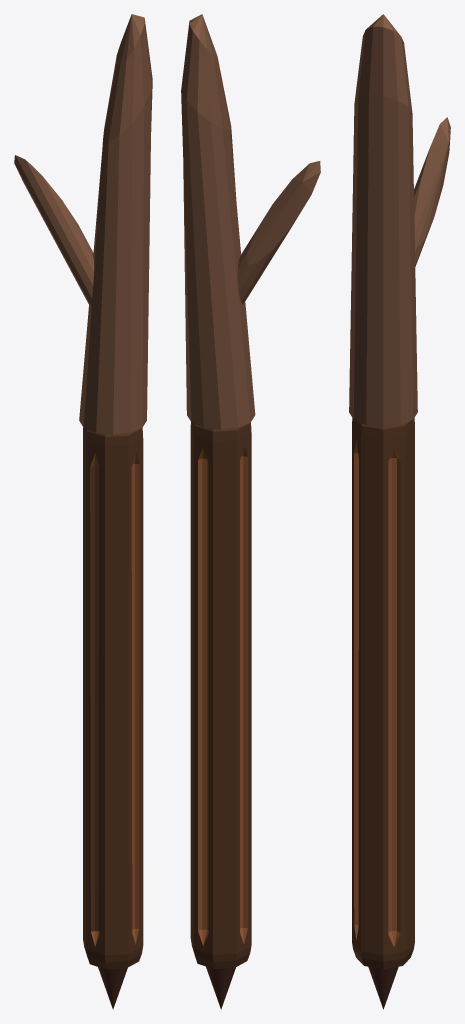
File: Wand 562.glb
3 views of the same model, side by side, from view 1: azimuth 30°, elevation 25°; view 2: azimuth 210°, elevation 25°; view 3: azimuth 270°, elevation 25° (orthographic).
Visible parts, largest first — view 1: GeneratedWand; view 2: GeneratedWand; view 3: GeneratedWand.
Boxes of the visible parts, x1,y1,x2,y2 form: GeneratedWand: (14, 14, 152, 1009); GeneratedWand: (181, 14, 320, 1009); GeneratedWand: (349, 14, 450, 1009).
Size of the model in its own units: 0.0578 by 0.5077 by 0.0466.
